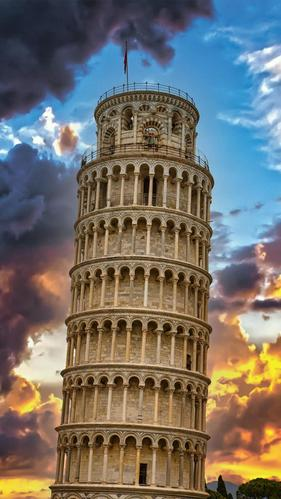buildings: (58, 0, 229, 498)
